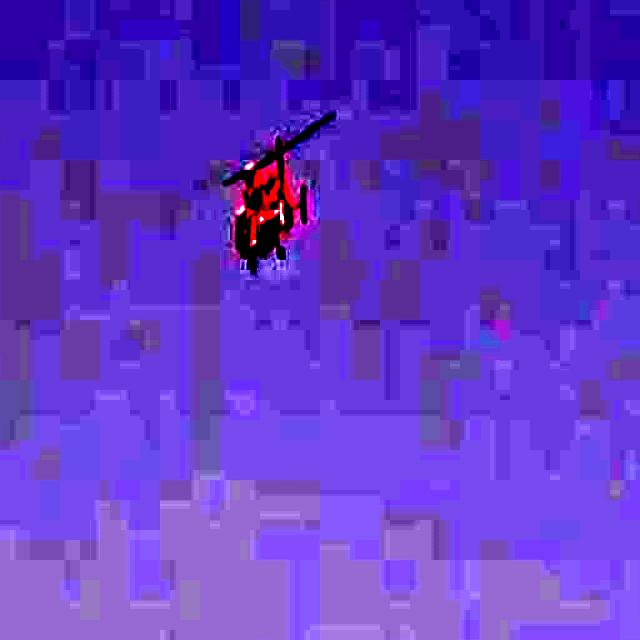drone: (159, 98, 365, 300)
